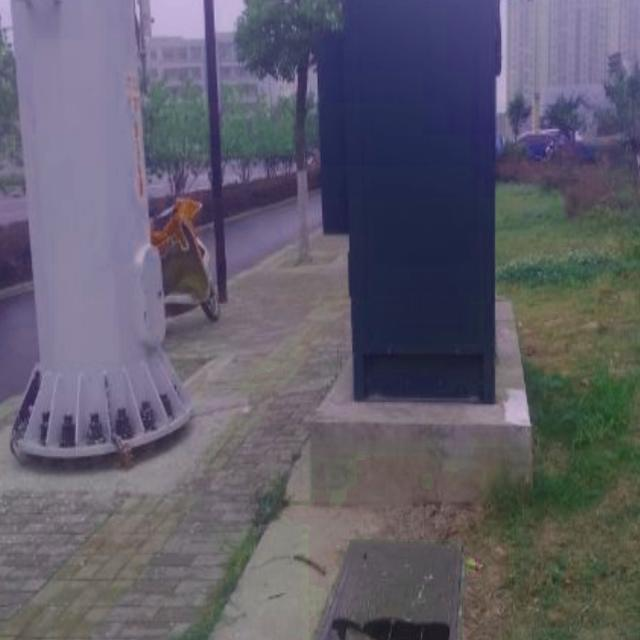broke: (286, 533, 466, 640)
